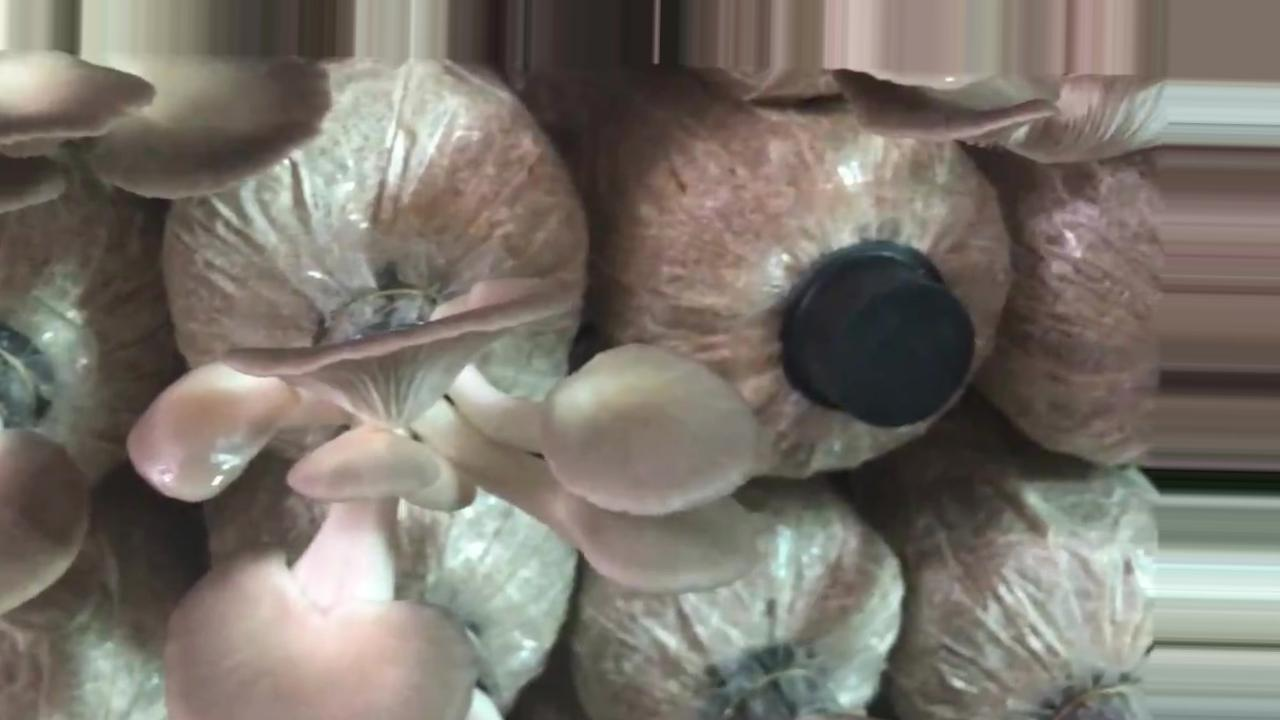nam: (121, 275, 758, 720), (1, 48, 341, 207)
